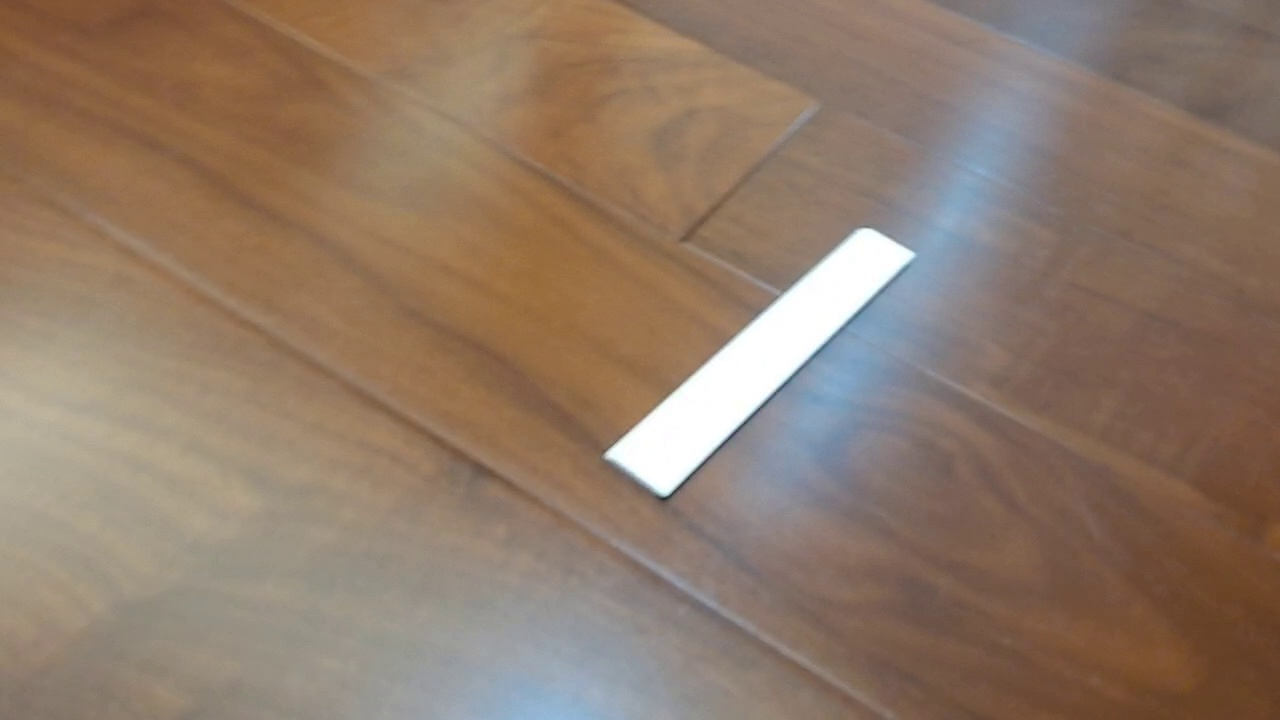ruler: (600, 224, 919, 503)
